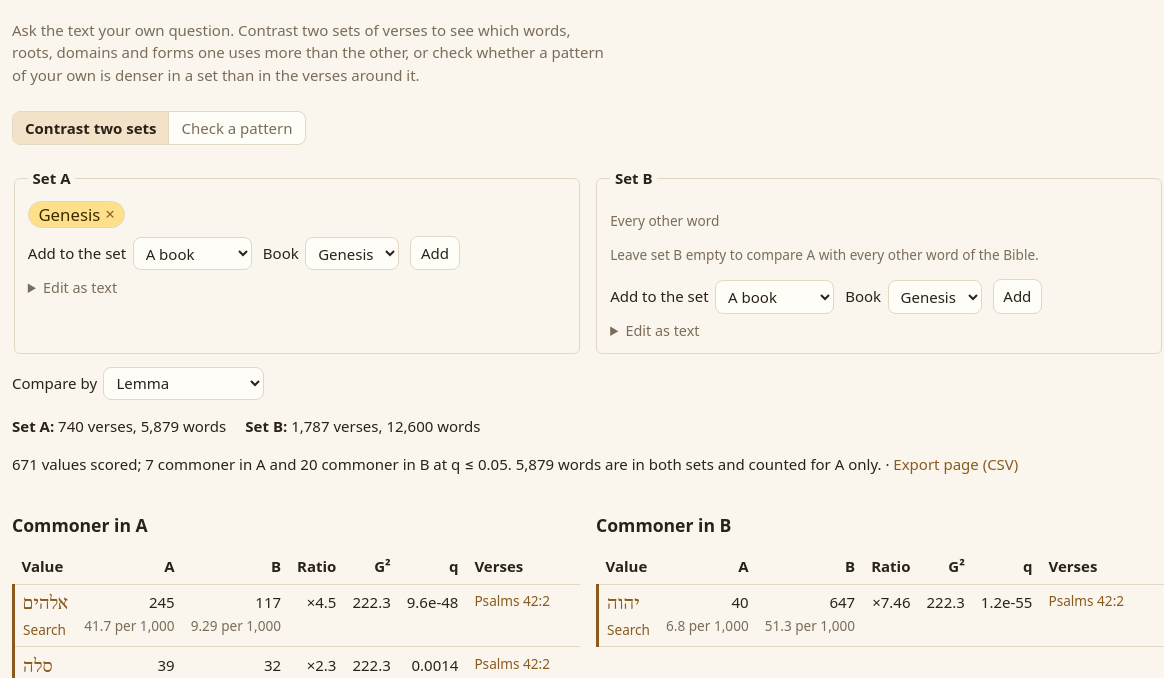
WorkbenchPage: contrast › adds and removes items, and switches the feature, through the URL
The width and height of the screenshot is (1164, 678).
expect the list shows "Genesis": met, box [38, 203, 100, 226]
Select "A section" in the dropdown labelled "Add to the set" below "Genesis". click: (192, 254)
box: [133, 237, 252, 270]
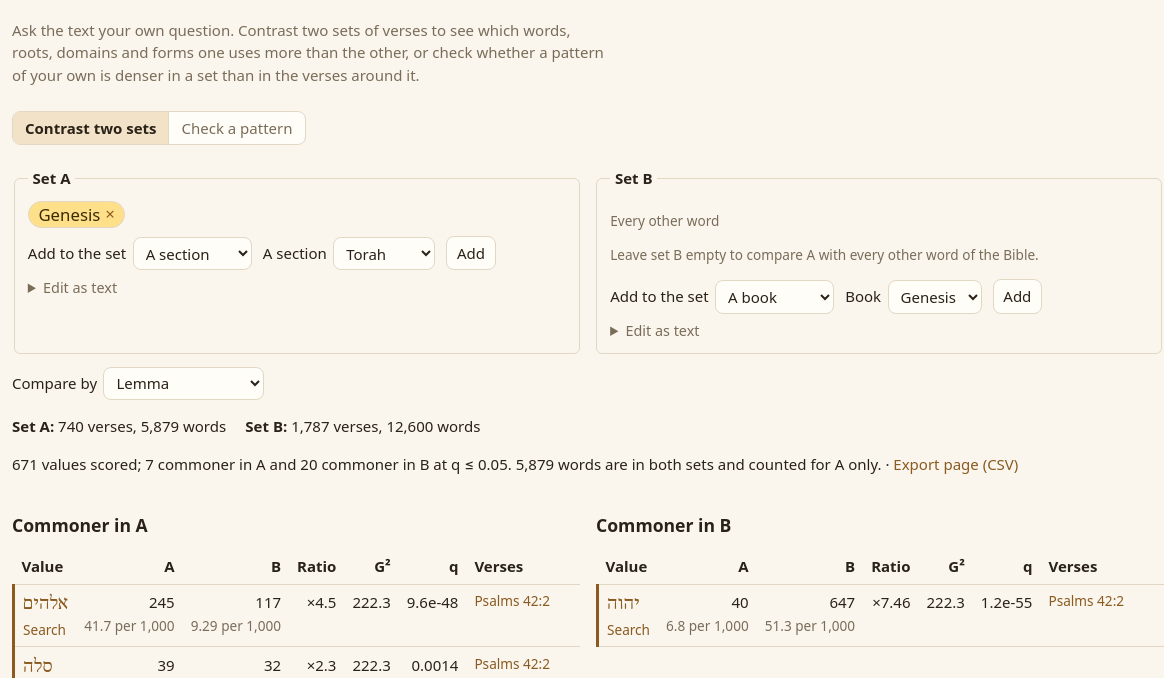
Select "Prophets" in the dropdown labelled "A section". click: (384, 254)
box: [333, 237, 435, 270]
Click the button "Add" next to "A section". click: (471, 253)
box: [446, 236, 496, 270]
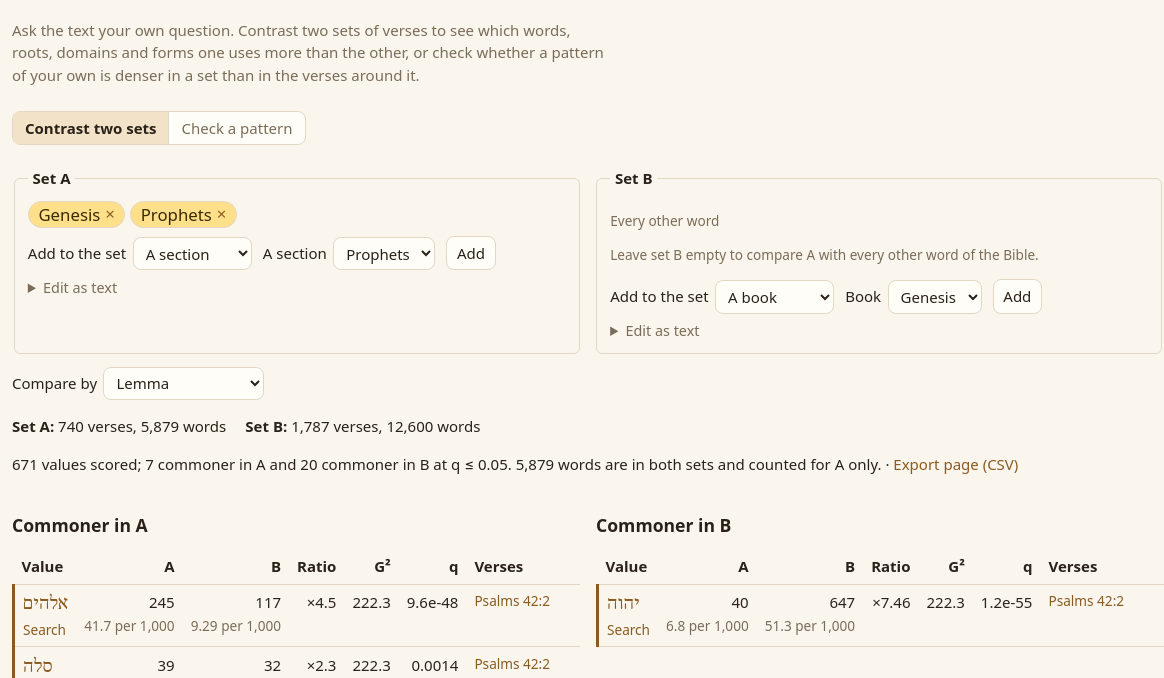
Select "A collection" in the dropdown labelled "Add to the set" next to "A section". click: (192, 254)
box: [133, 237, 252, 270]
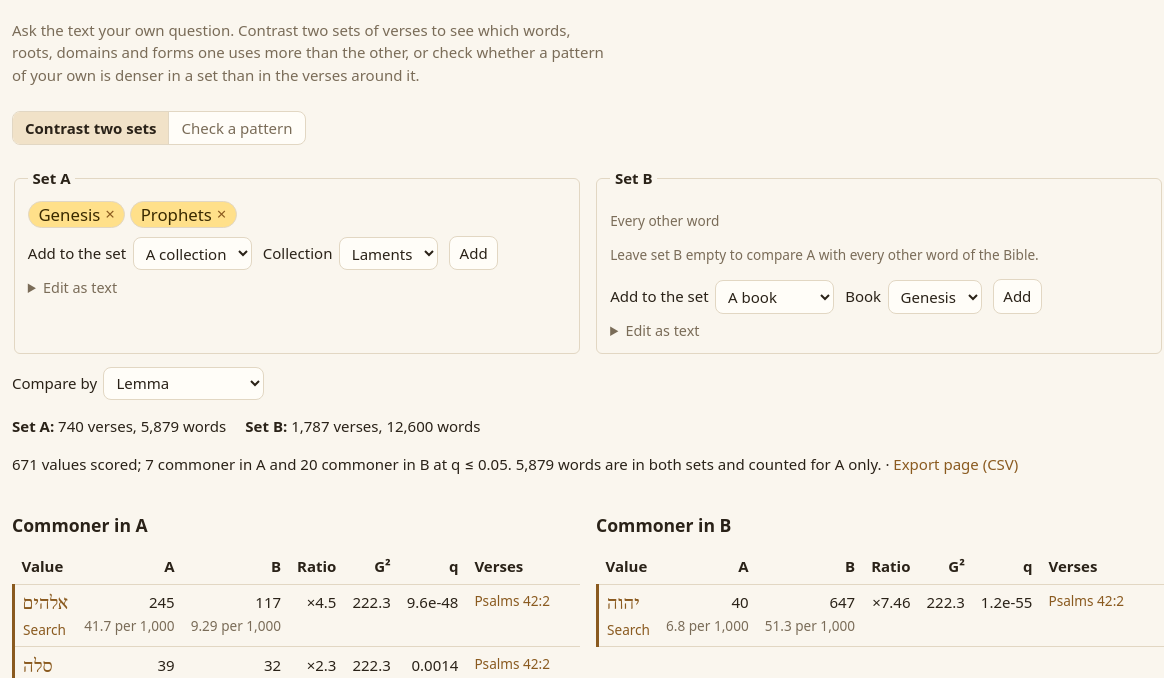
Click the button "Add" next to "Collection". click: (474, 253)
box: [449, 236, 498, 270]
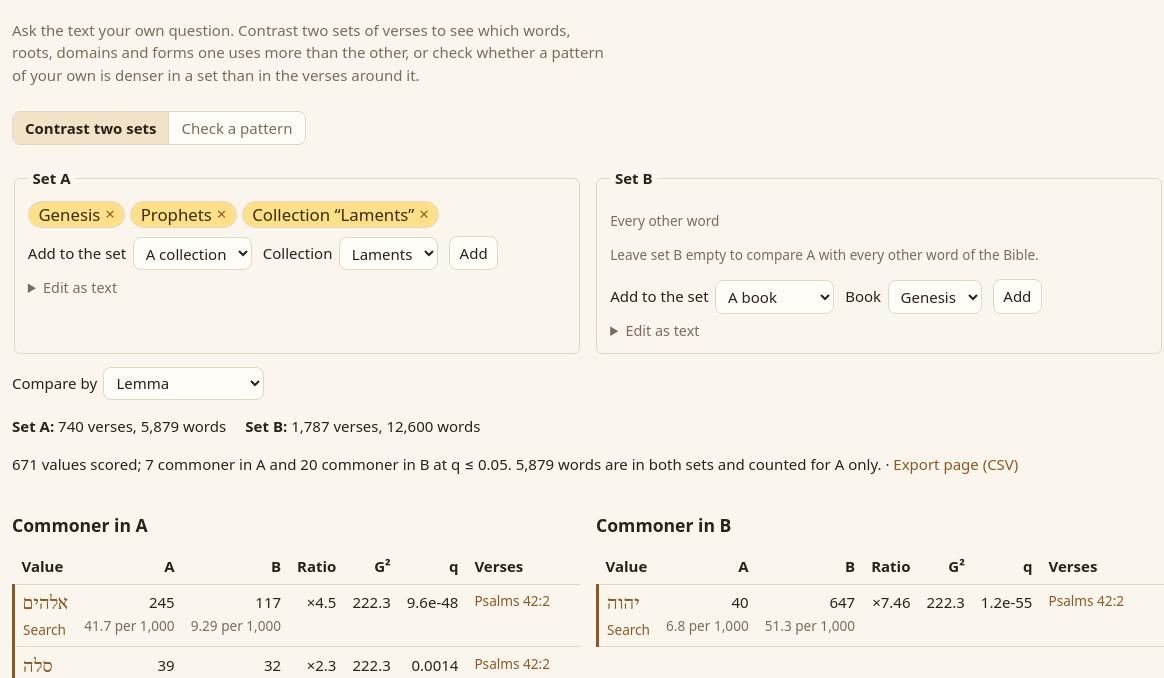
expect the list item "Collection “Laments”" is shown: met, box [252, 203, 414, 226]
Click the button named "Remove book:0". click: (110, 215)
box: [105, 206, 115, 223]
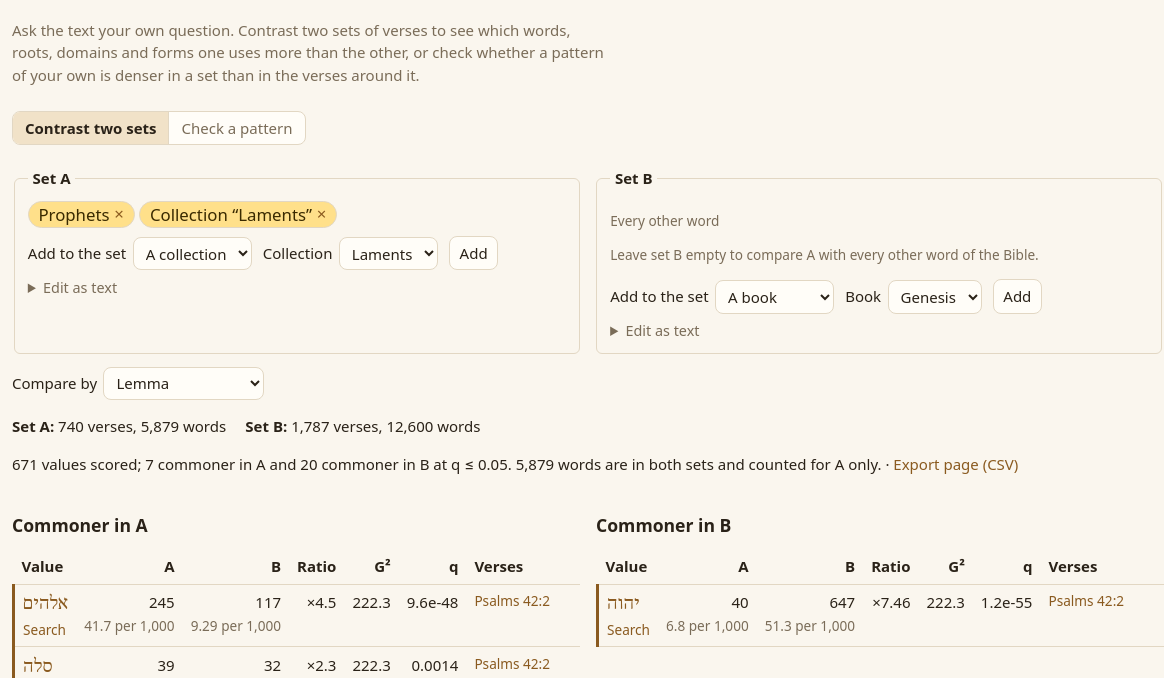
Select "Semantic domain" in the dropdown labelled "Compare by". click: (184, 383)
box: [104, 366, 264, 400]
(page scrolled)
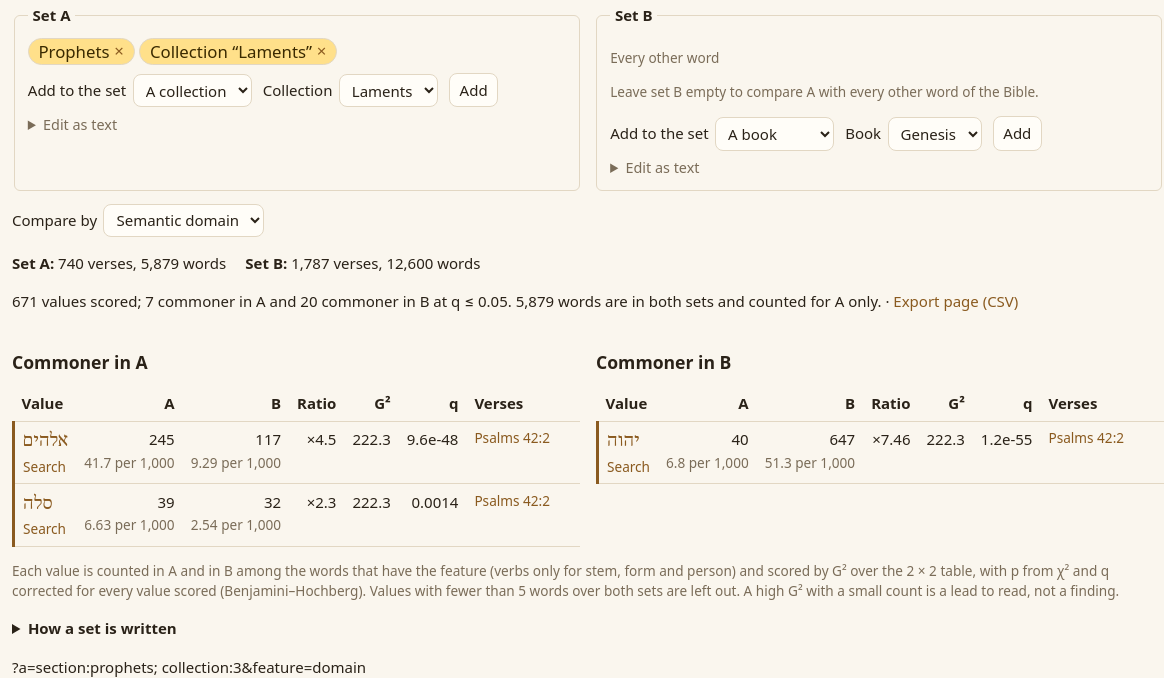
expect the text with test id "loc" shows "feature=domain": met, box [12, 657, 366, 677]
